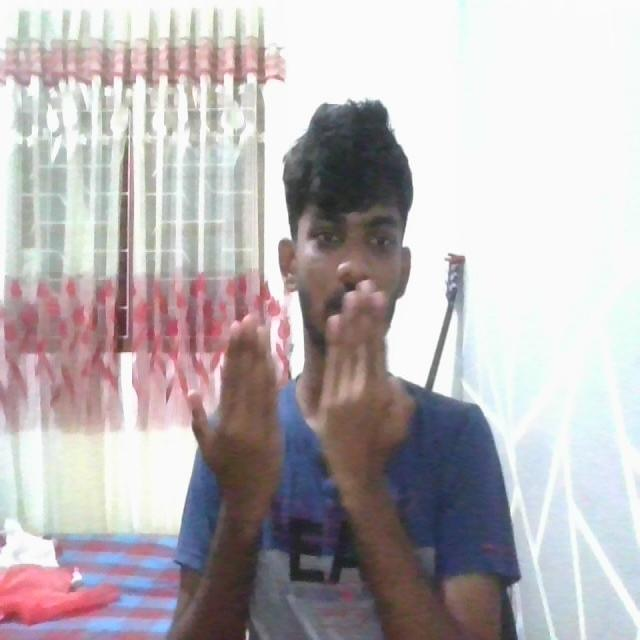ThankYou: (169, 278, 523, 640)
